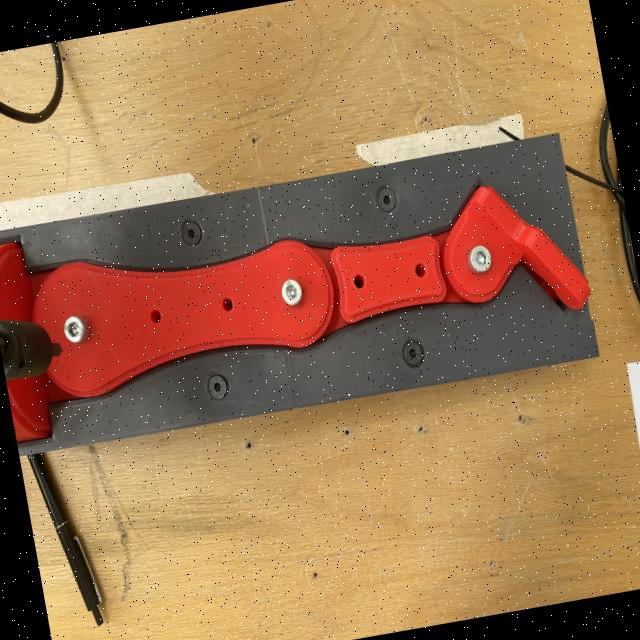Hex Socket Allen: (466, 242, 493, 274), (278, 276, 305, 308), (400, 337, 425, 368), (204, 372, 230, 401), (178, 218, 204, 246), (374, 184, 399, 213), (62, 314, 86, 344)
